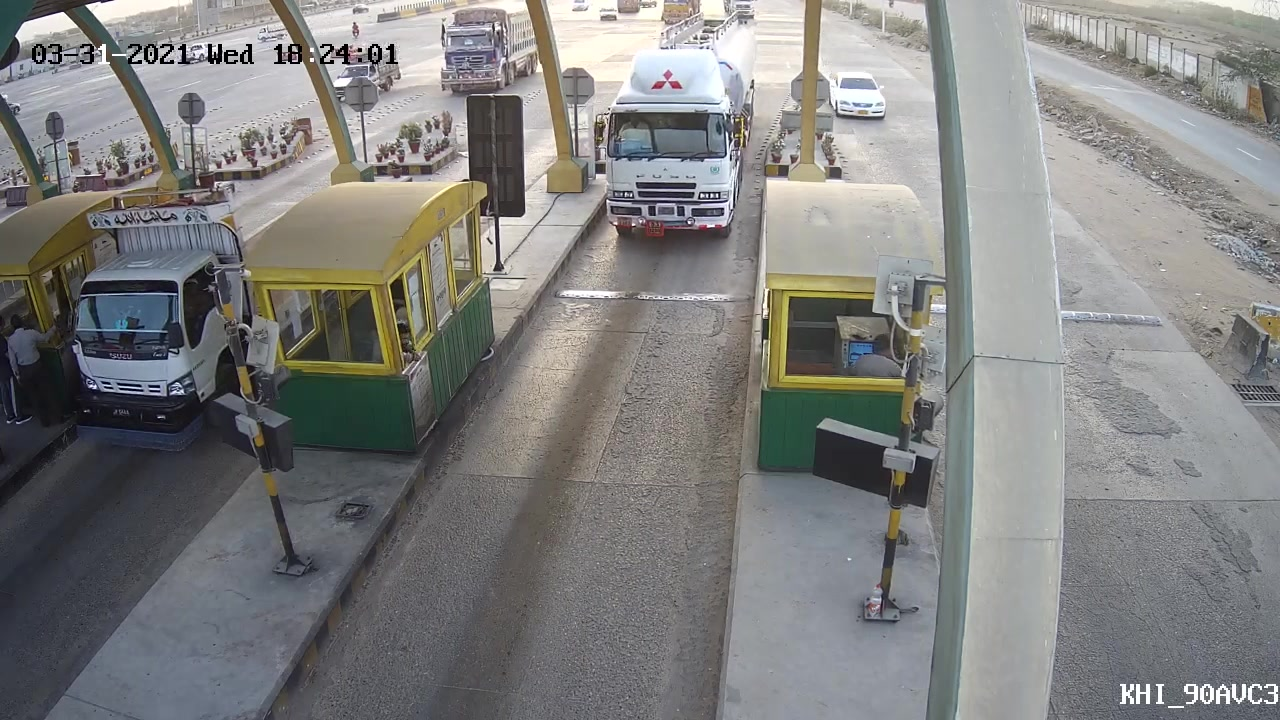F6: (588, 61, 759, 252)
